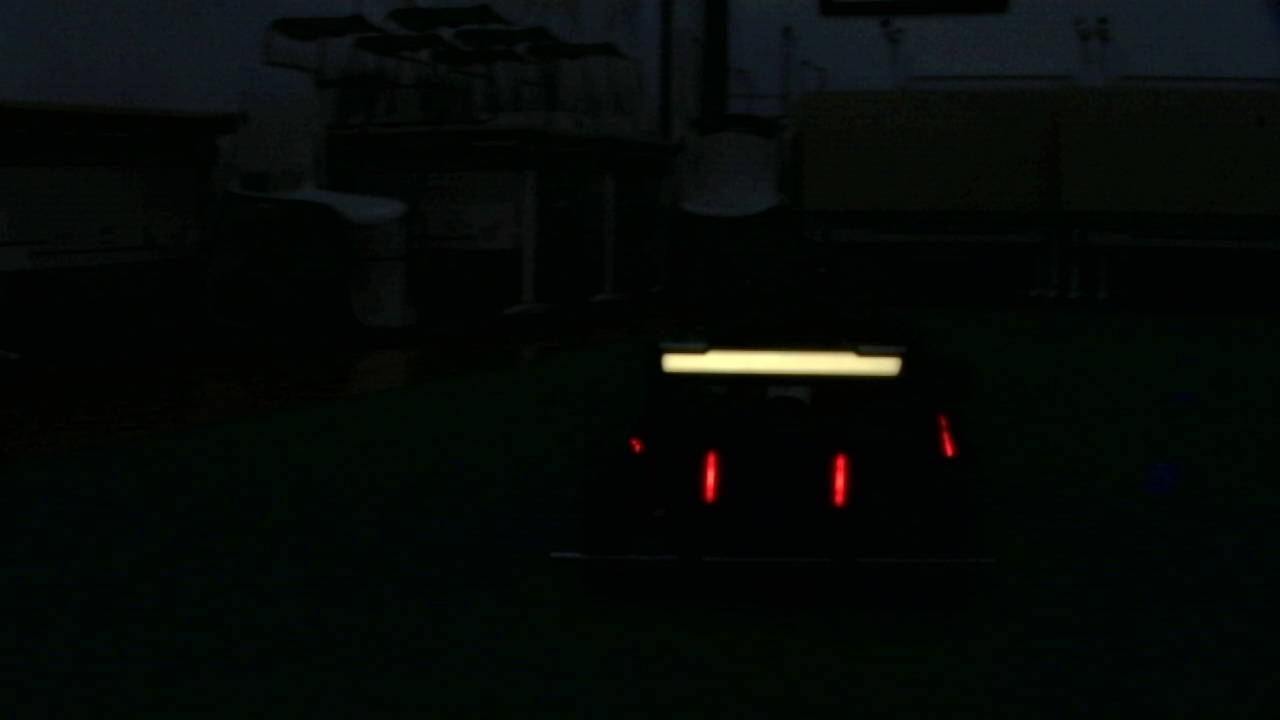lamp: (830, 452, 851, 509), (703, 450, 720, 509)
notpair1: (831, 411, 957, 518)
pair1: (705, 452, 847, 510)
